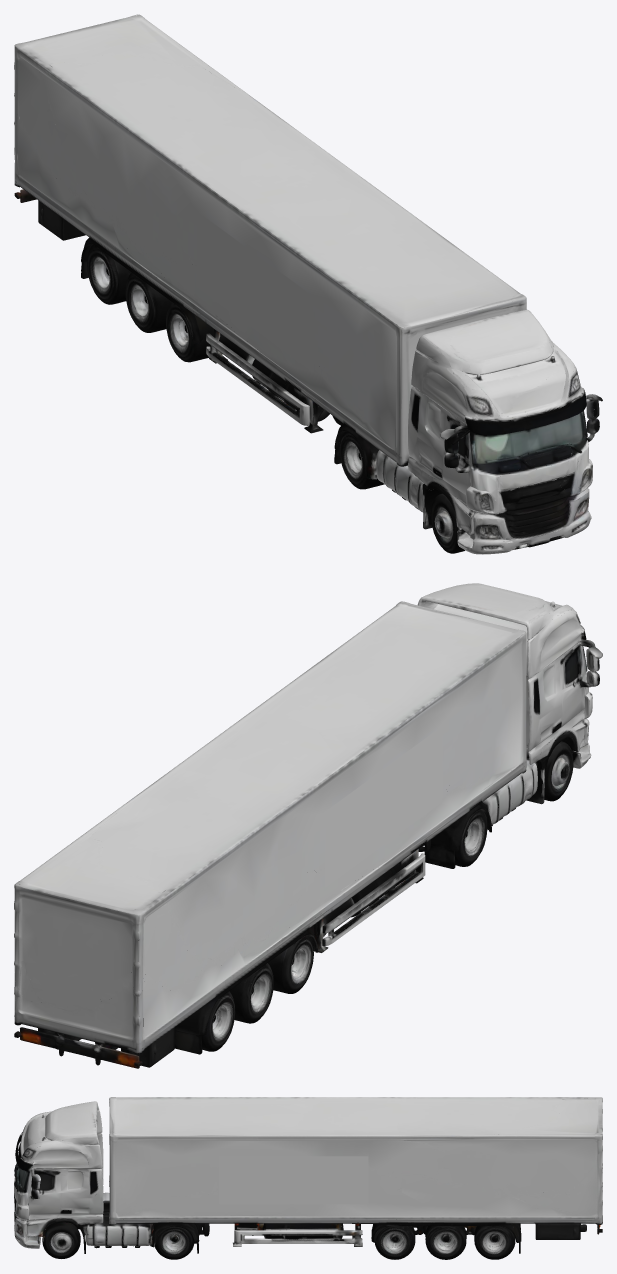
The model's file is semi.glb.
3 renders of one model, top to bottom at view 1: azimuth 30°, elevation 25°; view 2: azimuth 150°, elevation 25°; view 3: azimuth 270°, elevation 25°, orthographic. The views are drawn at different scales.
Parts seen in each view (by area): view 1: semi_mesh, semi_decal_L; view 2: semi_mesh, semi_decal_L; view 3: semi_mesh, semi_decal_R.
Boxes of the visible parts, x1,y1,x2,y2 form: semi_mesh: [14, 14, 602, 554]; semi_decal_L: [196, 211, 313, 371]; semi_mesh: [14, 583, 602, 1068]; semi_decal_L: [325, 726, 442, 887]; semi_mesh: [14, 1097, 602, 1259]; semi_decal_R: [219, 1156, 368, 1204].
Bounding box in the file's own units: 3.32 × 3.92 × 16.6.
2 materials, 1 textured.
